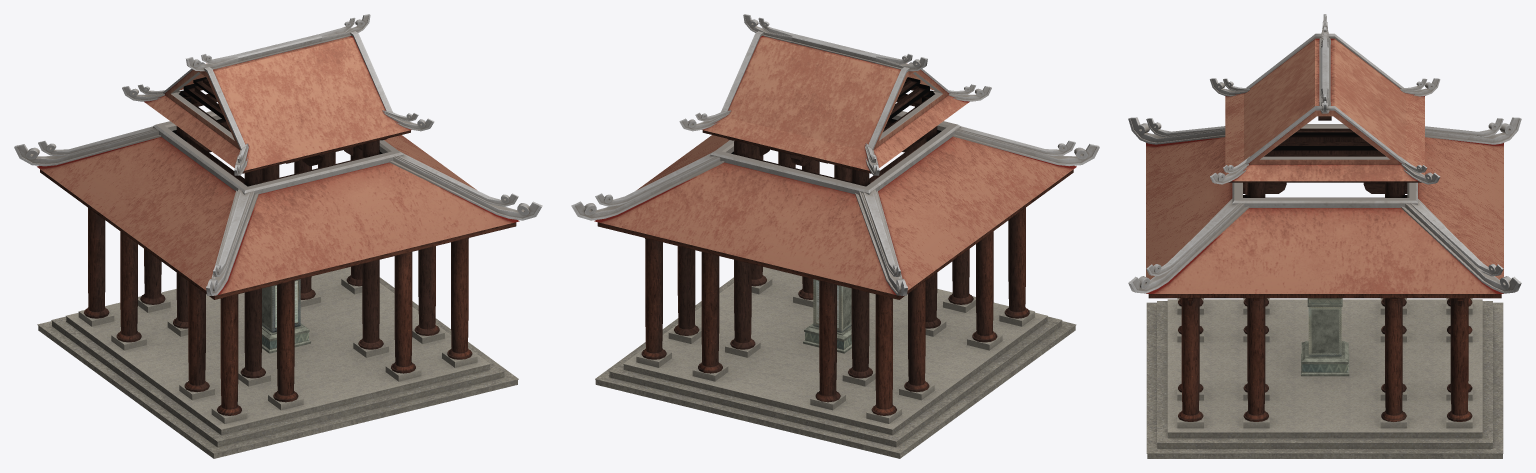
The model's file is small_house.glb.
The picture shows the model from 3 angles, left to right: view 1: azimuth 30°, elevation 25°; view 2: azimuth 150°, elevation 25°; view 3: azimuth 270°, elevation 25°; orthographic projection.
Parts seen in each view (by area): view 1: Object_3, Object_4, Object_2; view 2: Object_3, Object_4, Object_2; view 3: Object_3, Object_4, Object_2.
Part boxes in pixels (x1,y1,x2,y2): Object_3: [14, 14, 542, 458]; Object_4: [40, 77, 516, 415]; Object_2: [262, 279, 310, 353]; Object_3: [571, 14, 1099, 458]; Object_4: [597, 77, 1073, 415]; Object_2: [803, 279, 851, 353]; Object_3: [1128, 14, 1521, 458]; Object_4: [1148, 116, 1501, 421]; Object_2: [1301, 298, 1349, 376].
Bounding box in the file's own units: 894 × 815 × 894.
Materials: 3 (3 with a texture image).
